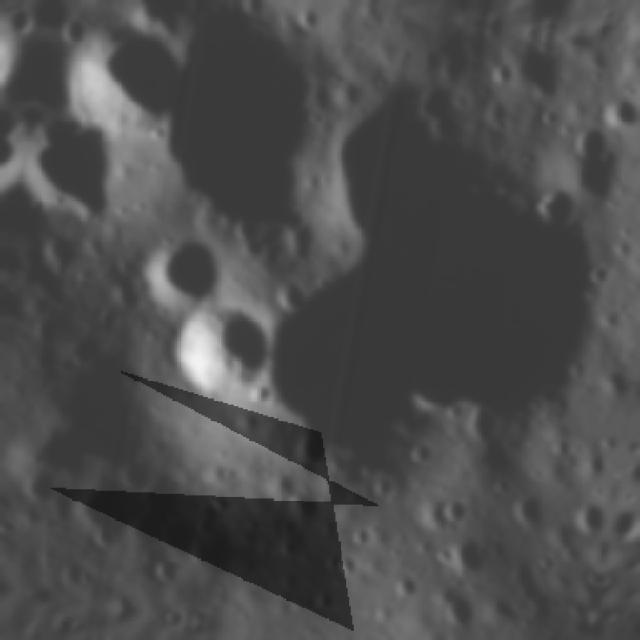crater: (52, 10, 196, 147), (15, 106, 134, 225), (156, 298, 281, 400), (138, 229, 231, 313), (563, 121, 619, 176), (528, 182, 583, 232), (443, 531, 492, 580), (258, 465, 302, 510), (46, 0, 86, 40), (507, 490, 545, 530), (291, 430, 329, 468), (57, 14, 97, 49), (404, 439, 438, 470), (487, 62, 516, 89), (195, 0, 236, 6)
